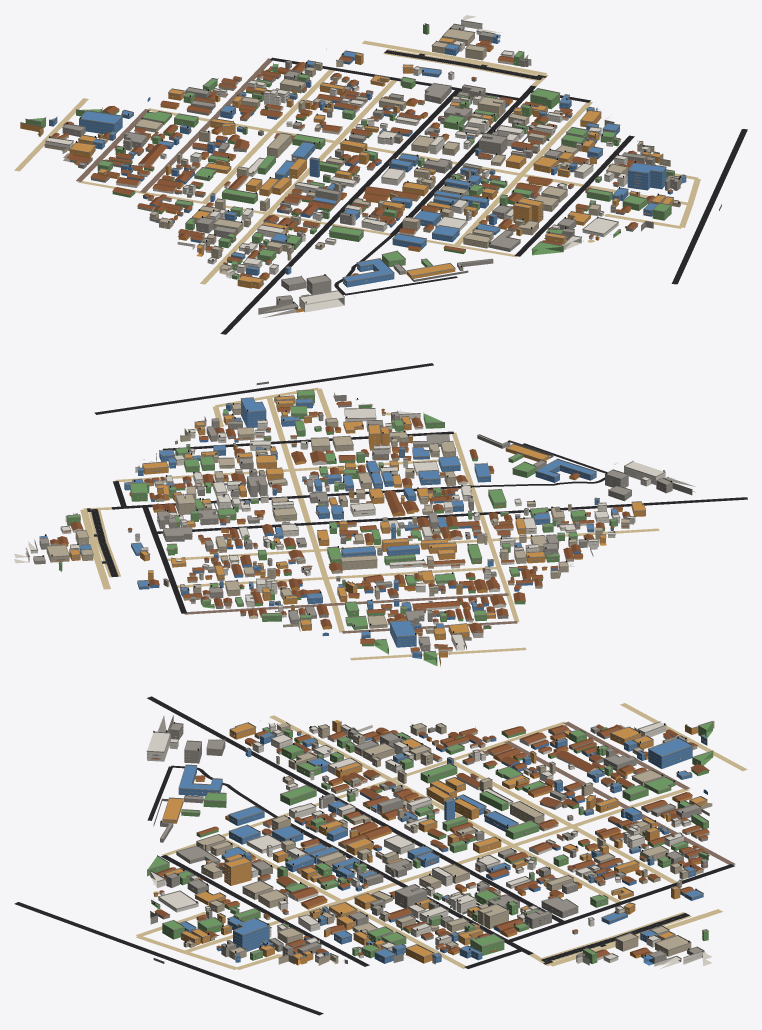
The model's file is zone_t5_2.glb.
3 renders of one model, top to bottom at view 1: azimuth 30°, elevation 25°; view 2: azimuth 150°, elevation 25°; view 3: azimuth 270°, elevation 25°, orthographic. The views are drawn at different scales.
Parts seen in each view (by area): view 1: parapet_t5_2, toit_tole_t5_2, bld_peinture_bleu_t5_2-col, bld_peinture_vert_t5_2-col, bld_peinture_ocre_t5_2-col, bld_peinture_blanc_t5_2-col, bld_peinture_ecaillee_t5_2-col, bld_beton_t5_2-col, route_residential_terre_t5_2, route_residential_bitume_t5_2, bandeau_t5_2, route_residential_paves_t5_2 (+6 smaller); view 2: parapet_t5_2, toit_tole_t5_2, bld_peinture_bleu_t5_2-col, bld_peinture_ecaillee_t5_2-col, bld_peinture_vert_t5_2-col, bld_peinture_ocre_t5_2-col, bld_peinture_blanc_t5_2-col, bld_beton_t5_2-col, route_residential_bitume_t5_2, route_residential_terre_t5_2, bandeau_t5_2, route_unclassified_terre_t5_2 (+5 smaller); view 3: parapet_t5_2, toit_tole_t5_2, bld_peinture_vert_t5_2-col, bld_peinture_bleu_t5_2-col, bld_peinture_ecaillee_t5_2-col, bld_peinture_ocre_t5_2-col, bld_peinture_blanc_t5_2-col, bld_beton_t5_2-col, route_residential_bitume_t5_2, route_residential_terre_t5_2, bandeau_t5_2, route_unclassified_terre_t5_2 (+4 smaller).
Part boxes in pixels (bbox=[...]): parapet_t5_2: bbox=[20, 16, 686, 309]; toit_tole_t5_2: bbox=[51, 40, 673, 278]; bld_peinture_bleu_t5_2-col: bbox=[49, 34, 686, 287]; bld_peinture_vert_t5_2-col: bbox=[25, 24, 674, 279]; bld_peinture_ocre_t5_2-col: bbox=[20, 38, 673, 312]; bld_peinture_blanc_t5_2-col: bbox=[45, 15, 650, 312]; bld_peinture_ecaillee_t5_2-col: bbox=[44, 29, 681, 274]; bld_beton_t5_2-col: bbox=[62, 24, 680, 317]; route_residential_terre_t5_2: bbox=[14, 69, 700, 284]; route_residential_bitume_t5_2: bbox=[220, 57, 747, 334]; bandeau_t5_2: bbox=[20, 23, 685, 311]; route_residential_paves_t5_2: bbox=[76, 58, 272, 192]; parapet_t5_2: bbox=[26, 389, 692, 662]; toit_tole_t5_2: bbox=[49, 401, 630, 650]; bld_peinture_bleu_t5_2-col: bbox=[39, 398, 617, 658]; bld_peinture_ecaillee_t5_2-col: bbox=[46, 398, 629, 653]; bld_peinture_vert_t5_2-col: bbox=[59, 390, 617, 665]; bld_peinture_ocre_t5_2-col: bbox=[59, 396, 645, 666]; bld_peinture_blanc_t5_2-col: bbox=[14, 409, 665, 651]; bld_beton_t5_2-col: bbox=[33, 394, 695, 651]; route_residential_bitume_t5_2: bbox=[94, 363, 747, 613]; route_residential_terre_t5_2: bbox=[83, 387, 659, 660]; bandeau_t5_2: bbox=[28, 396, 691, 659]; route_unclassified_terre_t5_2: bbox=[266, 397, 344, 632]; parapet_t5_2: bbox=[146, 715, 714, 963]; toit_tole_t5_2: bbox=[153, 724, 709, 957]; bld_peinture_vert_t5_2-col: bbox=[147, 722, 713, 963]; bld_peinture_bleu_t5_2-col: bbox=[178, 732, 707, 965]; bld_peinture_ecaillee_t5_2-col: bbox=[183, 723, 712, 965]; bld_peinture_ocre_t5_2-col: bbox=[154, 720, 714, 965]; bld_peinture_blanc_t5_2-col: bbox=[147, 722, 711, 968]; bld_beton_t5_2-col: bbox=[150, 715, 707, 963]; route_residential_bitume_t5_2: bbox=[14, 696, 734, 1015]; route_residential_terre_t5_2: bbox=[136, 703, 747, 969]; bandeau_t5_2: bbox=[147, 724, 713, 962]; route_unclassified_terre_t5_2: bbox=[183, 789, 689, 951].
Size of the model in its own units: 683 by 20 by 664.
